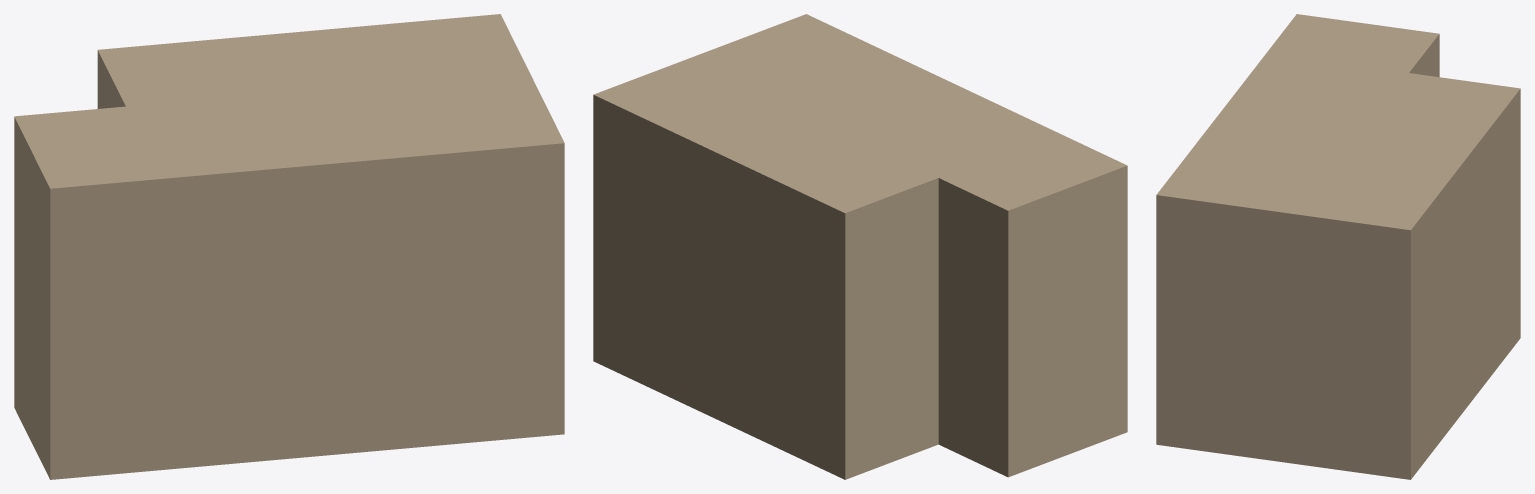
Rendered from bld_101524530.dae.
The picture shows the model from 3 angles, left to right: view 1: azimuth 30°, elevation 25°; view 2: azimuth 150°, elevation 25°; view 3: azimuth 270°, elevation 25°; orthographic projection. The views are drawn at different scales.
Visible parts, largest first — view 1: bld_101524530; view 2: bld_101524530; view 3: bld_101524530.
Boxes of the visible parts, left/top/right/bottom form: bld_101524530: left=14, top=14, right=564, bottom=479; bld_101524530: left=593, top=14, right=1127, bottom=479; bld_101524530: left=1156, top=14, right=1520, bottom=479.
Bounding box in the file's own units: 14.86 × 10.58 × 8.
